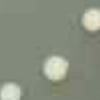white: (36, 51, 71, 85), (77, 4, 100, 35), (0, 77, 25, 100)
